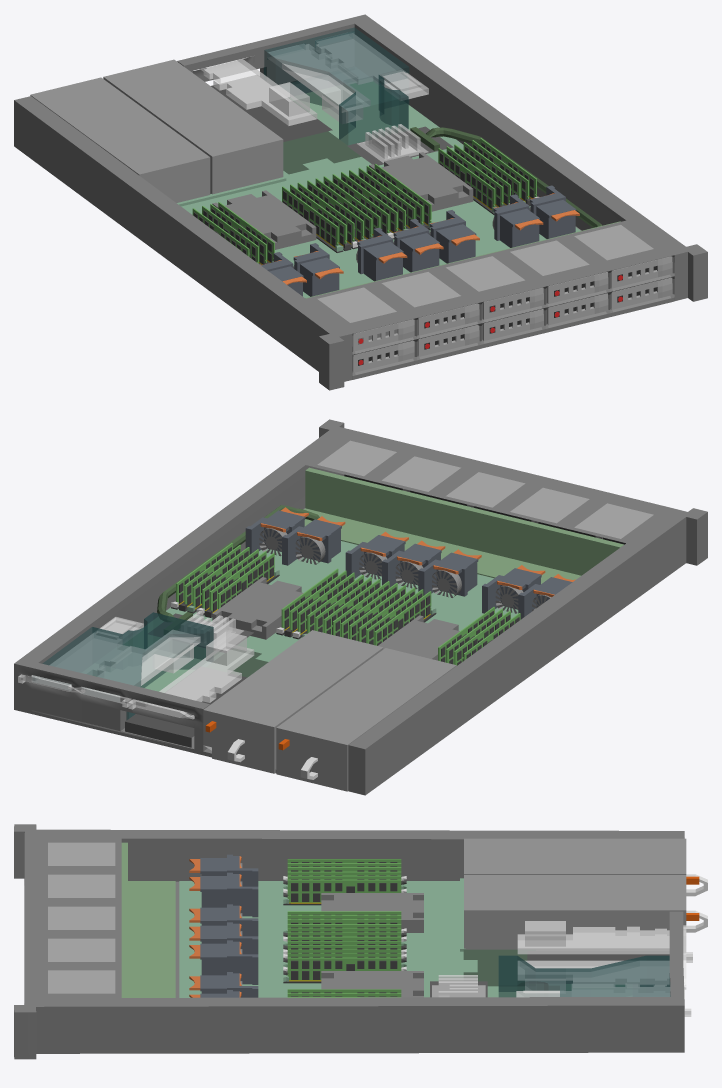
The model's file is server.glb.
3 views of the same model, one above another, from view 1: azimuth 30°, elevation 25°; view 2: azimuth 150°, elevation 25°; view 3: azimuth 270°, elevation 25° (orthographic).
Visible parts, largest first — view 1: Chassis, PSU.001, Riser, PSU.000, Mainboard, Heatsinks, PCIE.002, PCIE.001, Plane, PCIE, Plane.002, Fan.003 (+38 smaller); view 2: Chassis, Backplane, PSU.001, PSU.000, Riser, Mainboard, Heatsinks, PCIE.001, PCIE.002, Plane, PCIE, Fan.003 (+25 smaller); view 3: Chassis, PSU.001, Mainboard, PSU.000, Backplane, Riser, Heatsinks, PCIE.001, PCIE.002, Fan.006, Fan.001, Plane (+27 smaller).
Part boxes in pixels (x1,y1,x2,y2): Chassis: [14, 14, 707, 390]; PSU.001: [103, 59, 283, 194]; Riser: [263, 27, 409, 145]; PSU.000: [30, 77, 210, 202]; Mainboard: [177, 81, 580, 298]; Heatsinks: [212, 152, 473, 249]; PCIE.002: [250, 44, 370, 123]; PCIE.001: [200, 57, 317, 125]; Plane: [211, 75, 332, 141]; PCIE: [315, 32, 428, 100]; Plane.002: [283, 131, 361, 174]; Fan.003: [493, 194, 543, 247]; Chassis: [14, 419, 707, 795]; Backplane: [304, 467, 623, 583]; PSU.001: [203, 630, 383, 773]; PSU.000: [276, 648, 456, 791]; Riser: [33, 612, 213, 720]; Mainboard: [92, 541, 518, 692]; Heatsinks: [212, 577, 459, 660]; PCIE.001: [128, 631, 254, 719]; PCIE.002: [68, 630, 200, 707]; Plane: [125, 666, 246, 747]; PCIE: [18, 617, 143, 692]; Fan.003: [282, 516, 345, 565]; Chassis: [14, 824, 684, 1059]; PSU.001: [464, 875, 707, 953]; Mainboard: [179, 878, 624, 997]; PSU.000: [464, 838, 707, 896]; Backplane: [121, 842, 175, 997]; Riser: [498, 955, 670, 997]; Heatsinks: [321, 893, 423, 997]; PCIE.001: [517, 921, 692, 959]; PCIE.002: [518, 954, 692, 990]; Fan.006: [189, 940, 258, 984]; Fan.001: [189, 872, 258, 917]; Plane: [527, 951, 669, 983].
Size of the model in its own units: 28.11 by 5.97 by 43.81.
